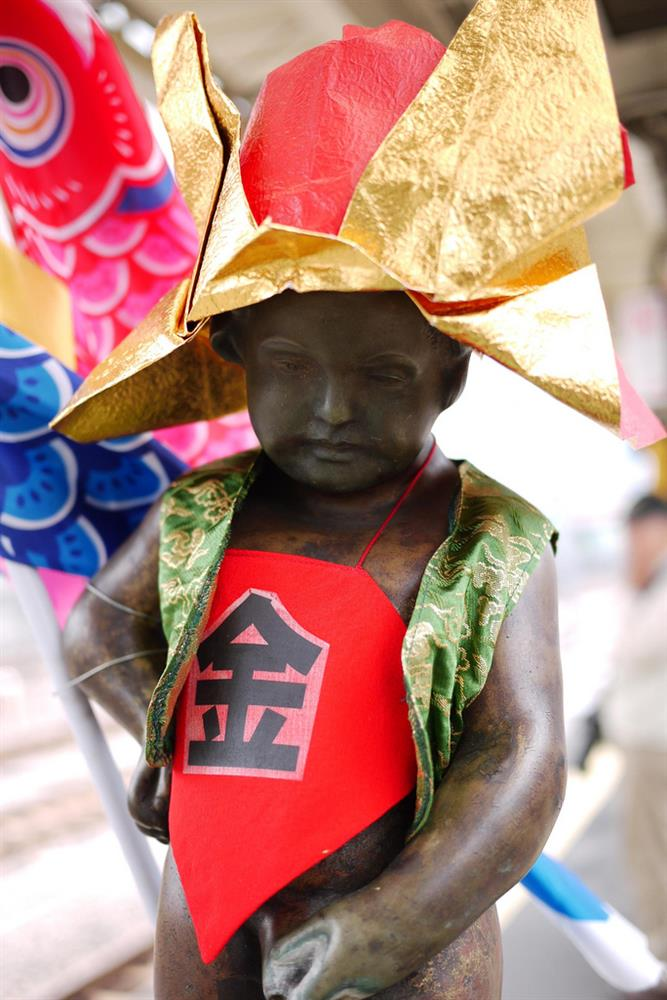Manneken_Pis: (83, 275, 539, 972)
